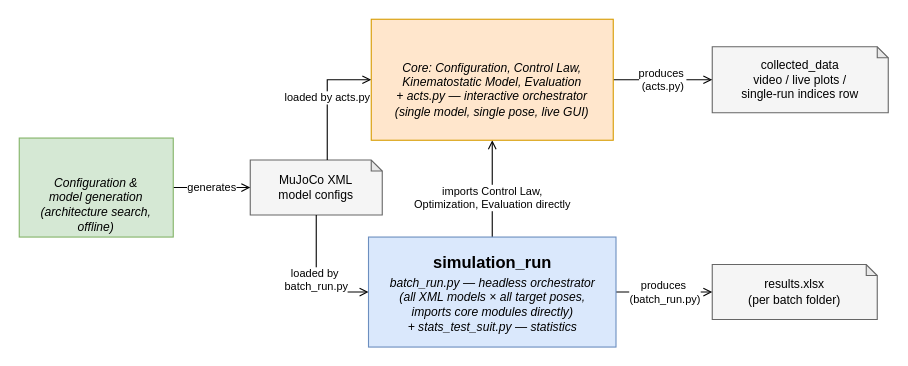
Some shapes in this 908 by 366 pixel diagram are drawn without their labels. The box of each missing label's shape, as (x1, y1, x2, y2) in pixels:
acts_simulator: (370, 18, 613, 140)
create_xml: (18, 137, 173, 237)
